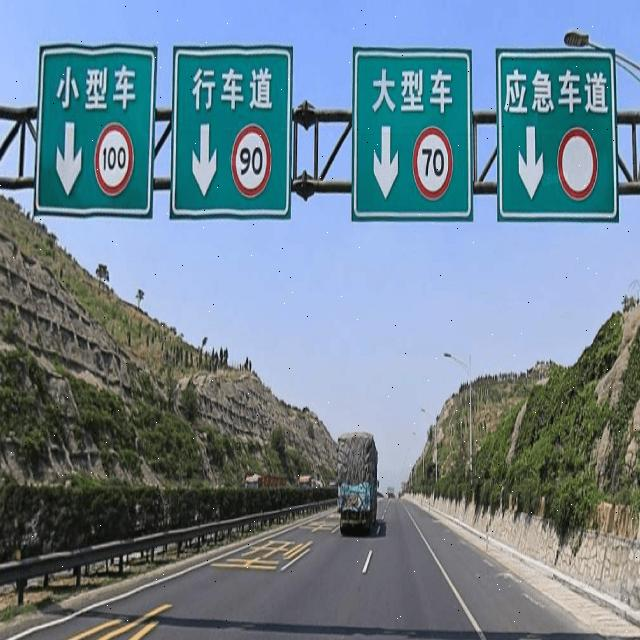speed limit 100: (93, 122, 135, 197)
speed limit 70: (411, 124, 453, 201)
speed limit 90: (231, 123, 272, 197)
